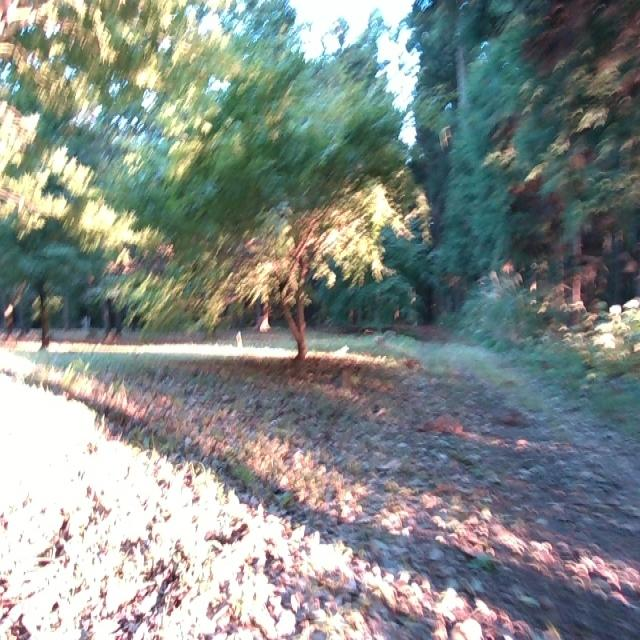bush: (453, 277, 640, 447)
tree: (265, 164, 318, 368), (28, 238, 63, 354)
